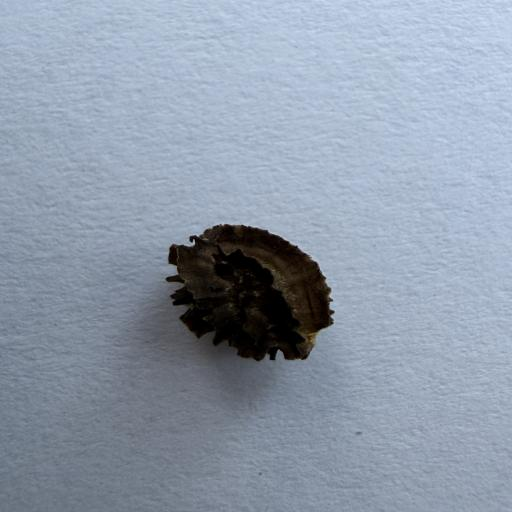papaya_seed: (144, 210, 390, 390)
